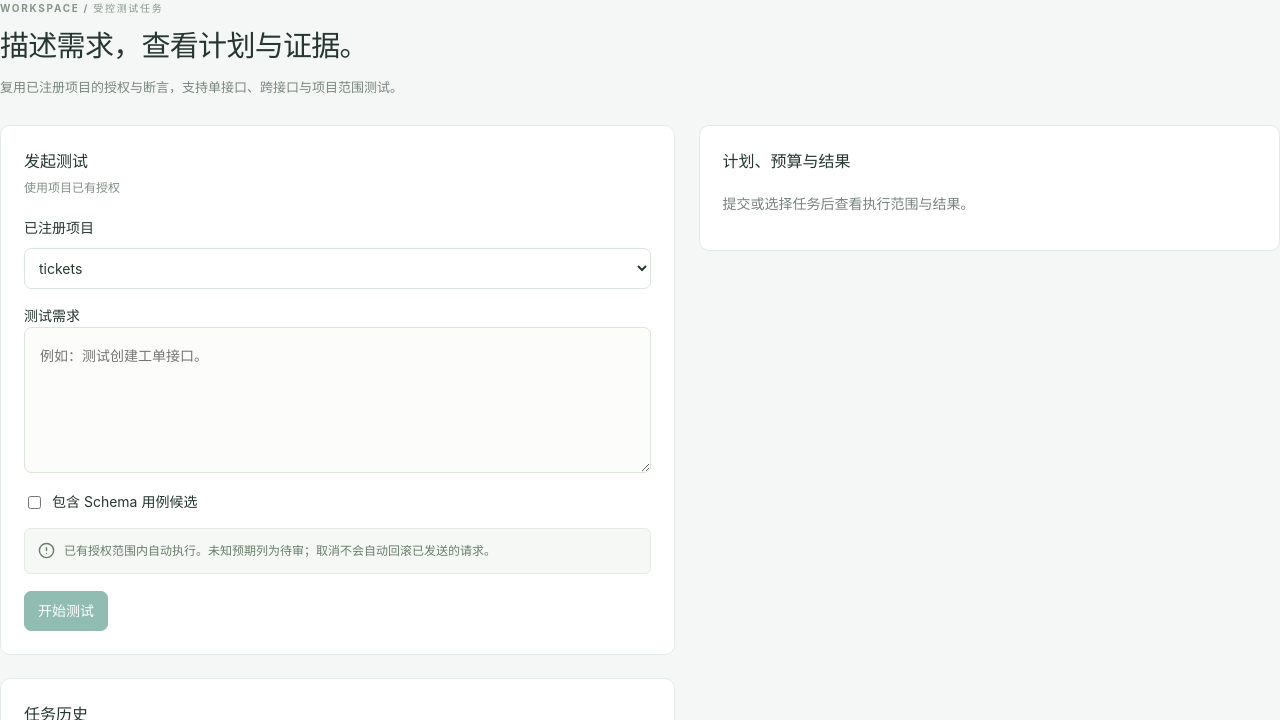
Test: groups retain excluded denominators and show approved negative outcomes
The width and height of the screenshot is (1280, 720).
In the text box labelled "测试需求": point(337, 400) [24, 327, 650, 473], type "测试项目核心接口"
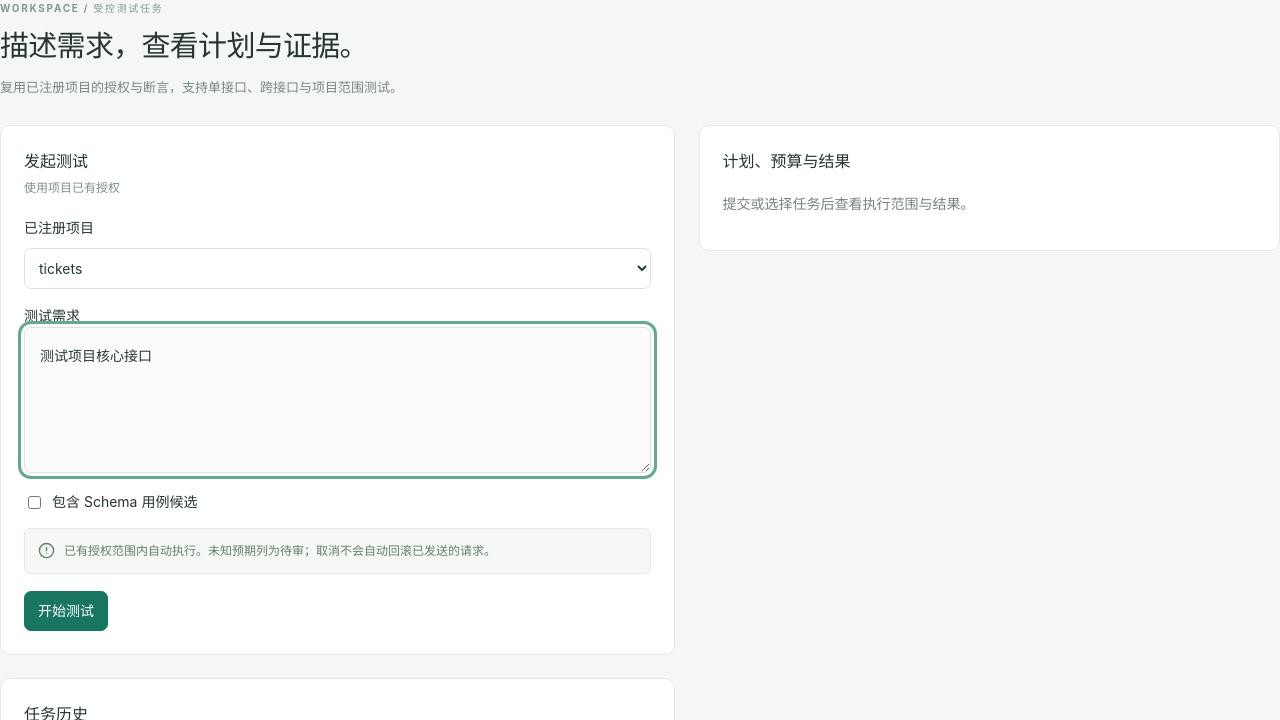
Click the button "开始测试": point(66, 611) [24, 591, 108, 631]
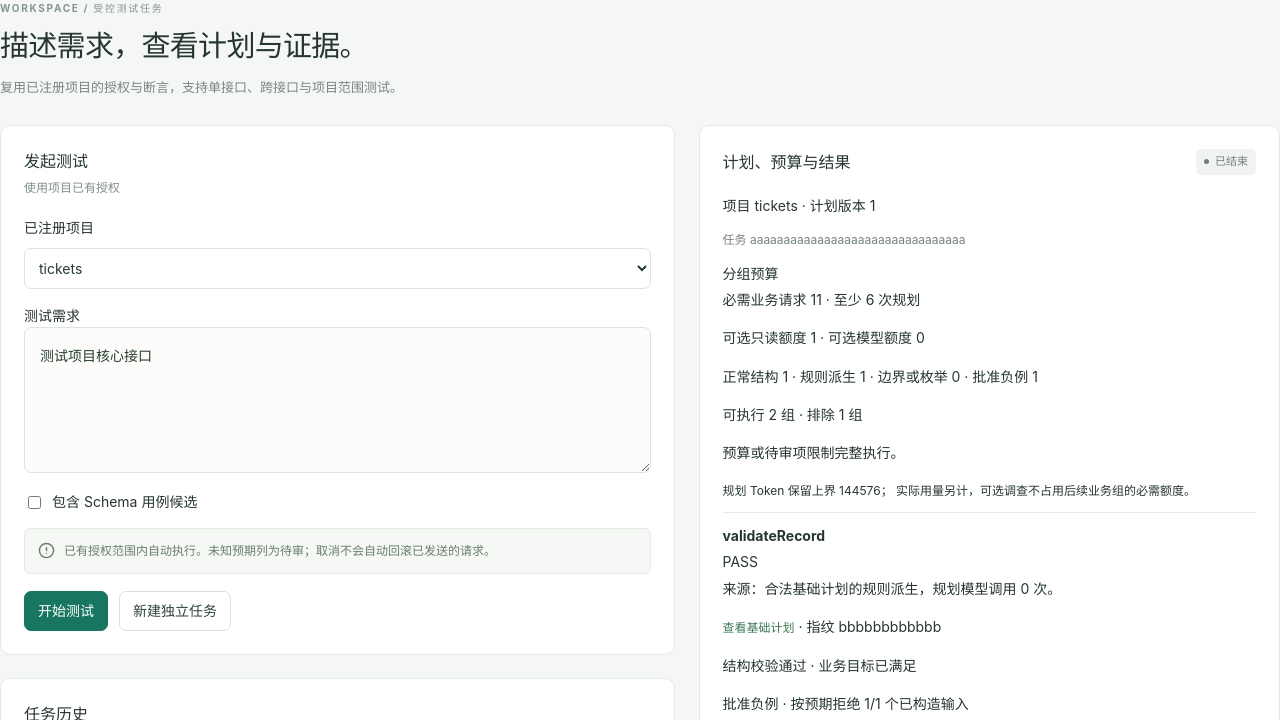
Now the element named "分组预算预览" shows "必需业务请求 11", box [722, 250, 1256, 513]
Now the text "批准负例 · 按预期拒绝 1/1 个已构造输入" is shown, box [722, 695, 969, 712]
Now the text "来源：合法基础计划的规则派生，规划模型调用 0 次。" is shown, box [722, 580, 1061, 597]
